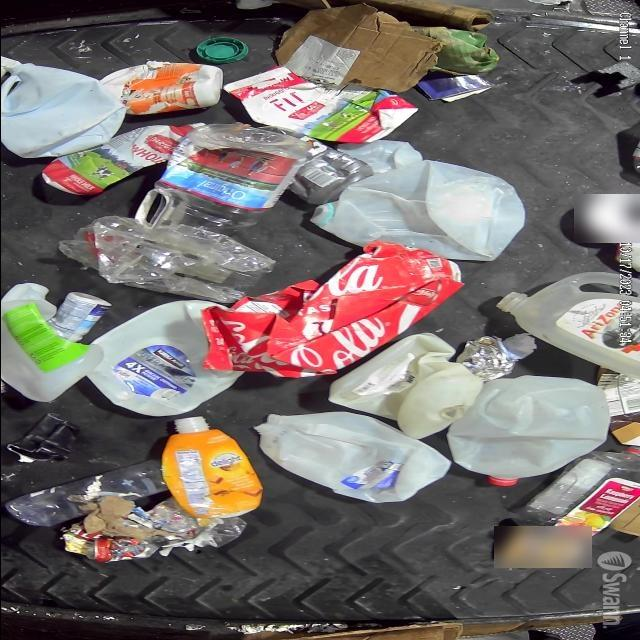milk_jug: (317, 158, 525, 262), (84, 300, 244, 418), (253, 411, 453, 503), (446, 376, 610, 485), (504, 275, 640, 375), (0, 64, 132, 161), (0, 282, 103, 403), (328, 333, 460, 423)
non_white_jug: (221, 66, 418, 144)
